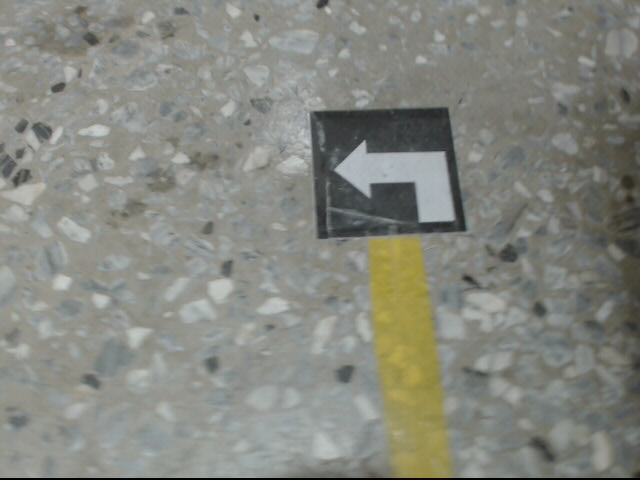left: (311, 107, 469, 238)
